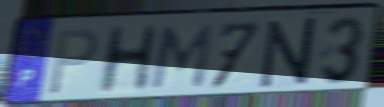3: (313, 14, 370, 88)
7: (210, 19, 261, 91)
H: (95, 22, 162, 98)
M: (148, 22, 216, 91)
N: (259, 15, 318, 91)
P: (46, 27, 101, 98)
